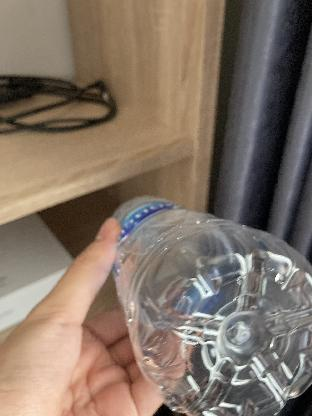Plastic Bottle: (96, 188, 312, 416)
